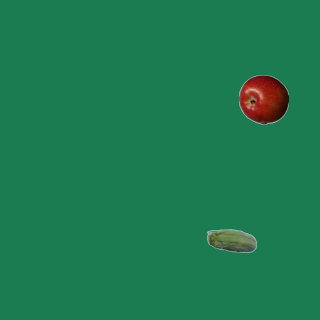Apple Braeburn: (238, 74, 288, 124)
Corn Husk: (206, 217, 256, 267)
